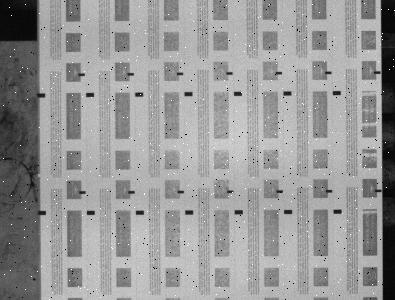backgroundclutter: (38, 174, 41, 177)
qblock: (38, 210, 46, 215), (136, 210, 144, 215), (87, 210, 95, 215), (37, 93, 45, 98), (234, 91, 242, 96), (185, 210, 194, 214), (334, 209, 343, 213), (135, 92, 144, 96), (333, 91, 342, 95), (235, 210, 243, 214), (285, 210, 293, 214), (185, 92, 193, 96), (86, 93, 94, 97), (284, 91, 292, 95)
smallqblock: (326, 189, 333, 193), (128, 190, 135, 194), (127, 72, 134, 76), (277, 190, 284, 193), (376, 189, 383, 192), (79, 191, 86, 194), (276, 71, 283, 74), (375, 71, 382, 74), (78, 73, 85, 76), (177, 72, 184, 75), (228, 190, 234, 193), (178, 190, 184, 193), (326, 71, 332, 74), (227, 72, 233, 75)
